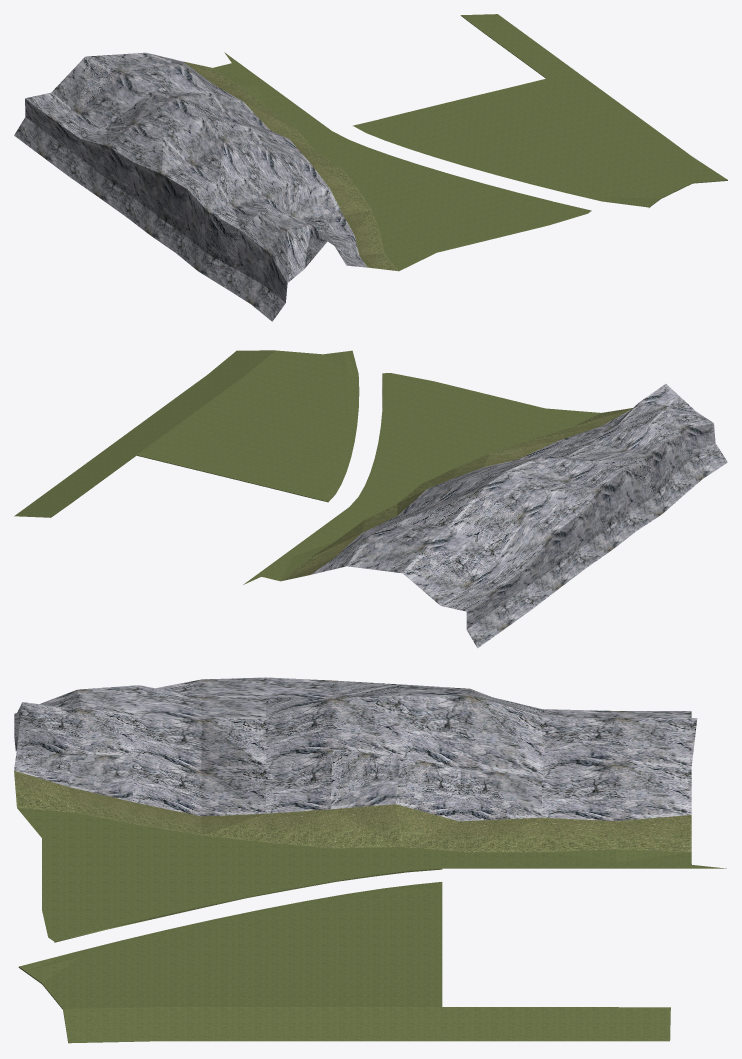
The model's file is vgsecoast03.obj.
3 renders of one model, top to bottom at view 1: azimuth 30°, elevation 25°; view 2: azimuth 150°, elevation 25°; view 3: azimuth 270°, elevation 25°, orthographic. The views are drawn at different scales.
Parts seen in each view (by area): view 1: vgsEcoast03; view 2: vgsEcoast03; view 3: vgsEcoast03.
Boxes of the visible parts, x1,y1,x2,y2 form: vgsEcoast03: [14, 14, 727, 321]; vgsEcoast03: [14, 350, 727, 648]; vgsEcoast03: [14, 677, 726, 1043].
Bounding box in the file's own units: 256 × 40.91 × 250.
5 materials, 5 textured.
